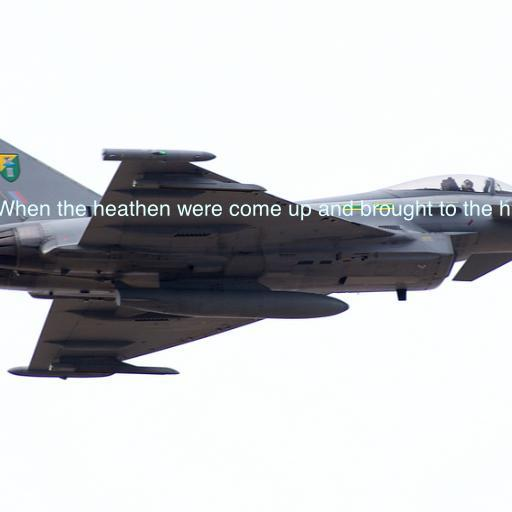Big Caslon: (0, 200, 512, 221)
